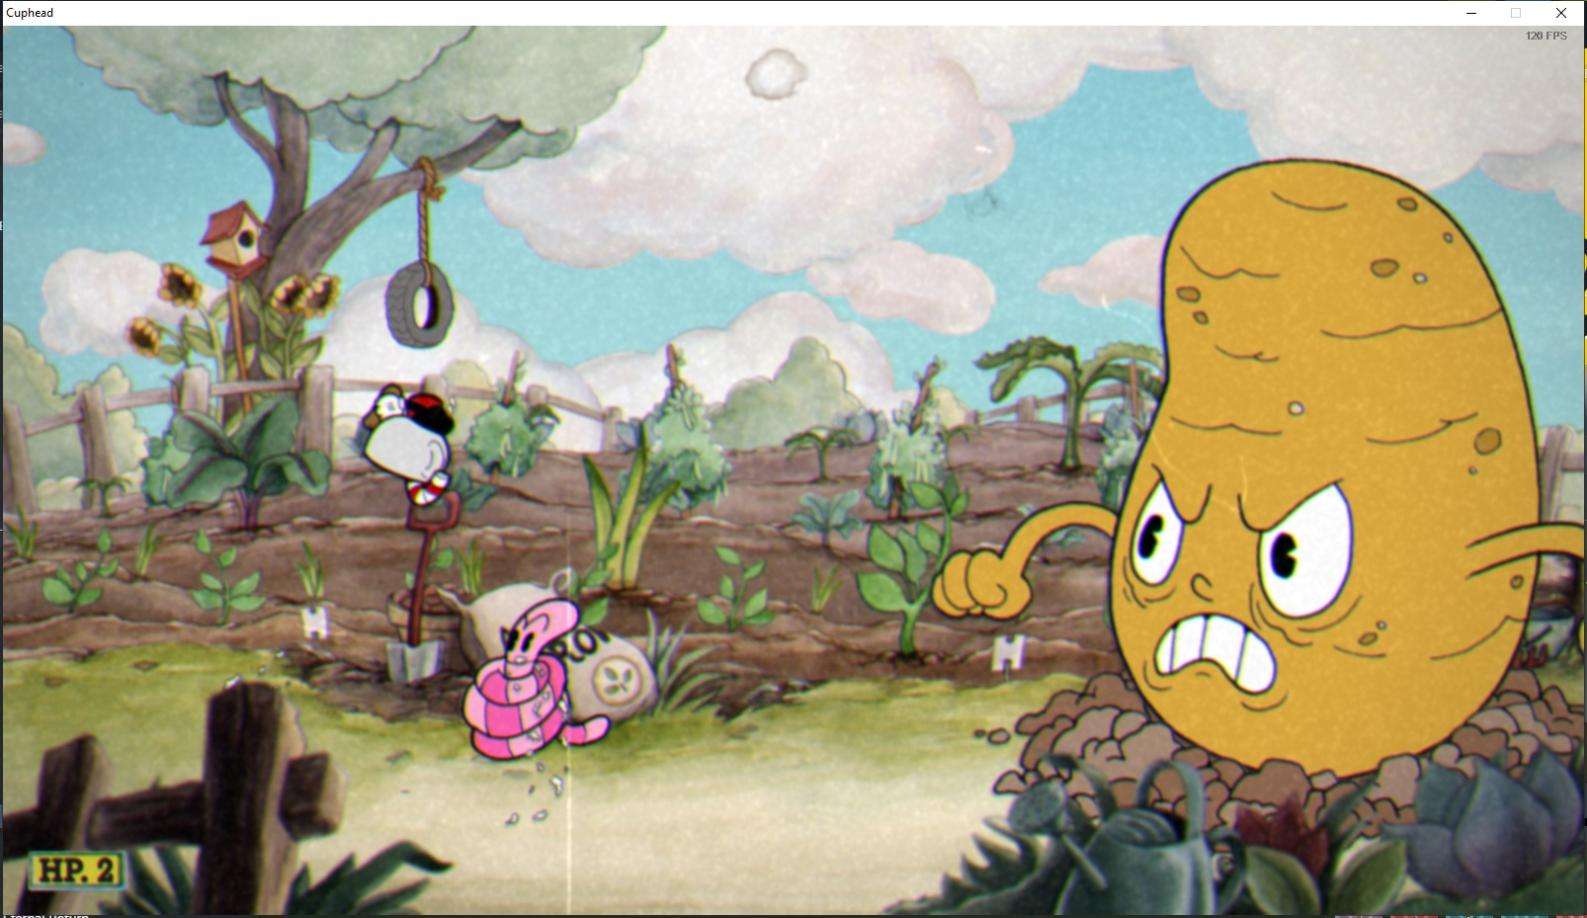hp2: (91, 852, 123, 889)
player: (354, 376, 464, 516)
potato_boss: (1088, 139, 1556, 800)
worm: (453, 587, 624, 775)
